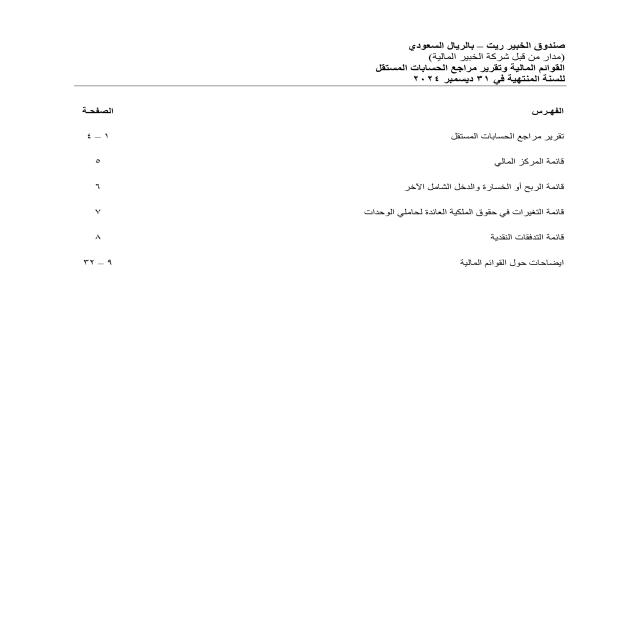other: (43, 95, 571, 311)
